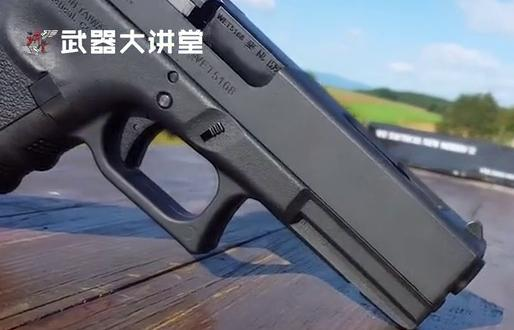gun: (1, 1, 514, 330)
